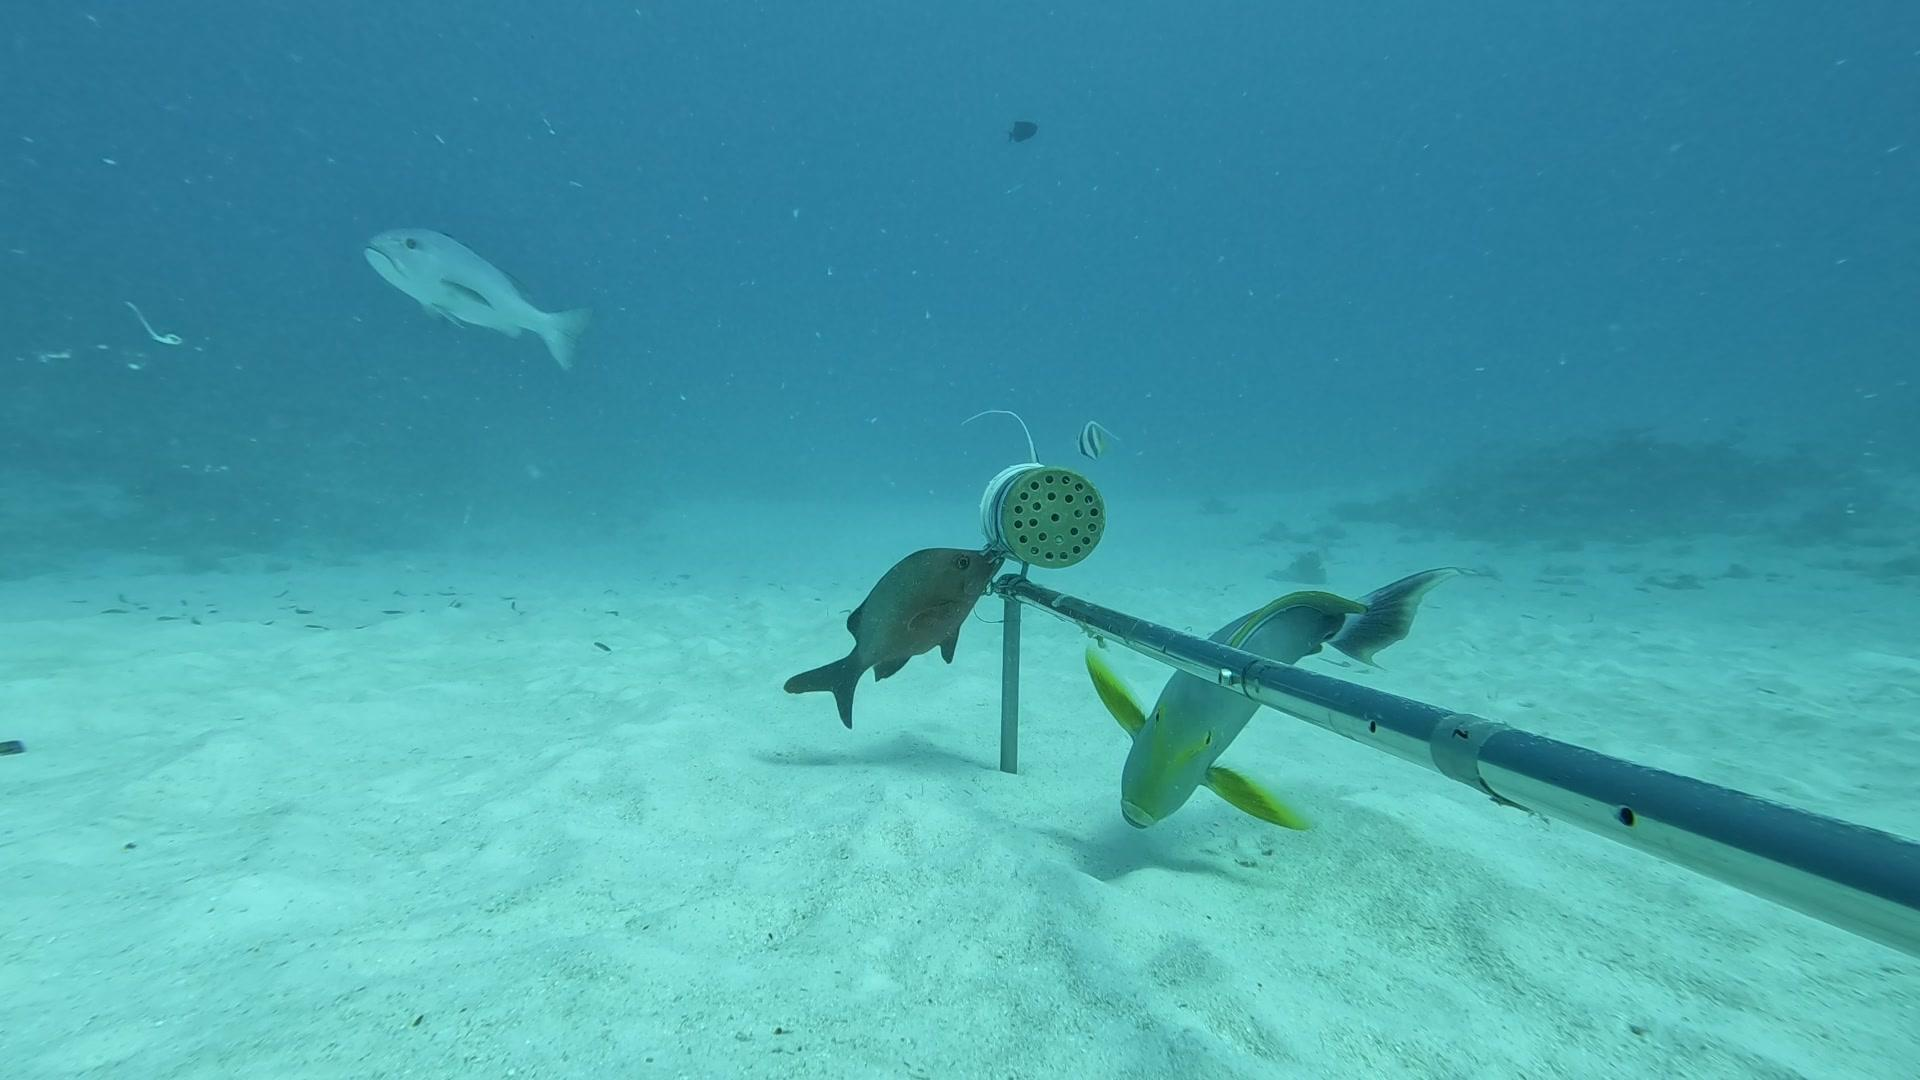fish: (1062, 556, 1455, 849), (339, 178, 612, 410), (775, 522, 1018, 741), (1065, 409, 1124, 468)
